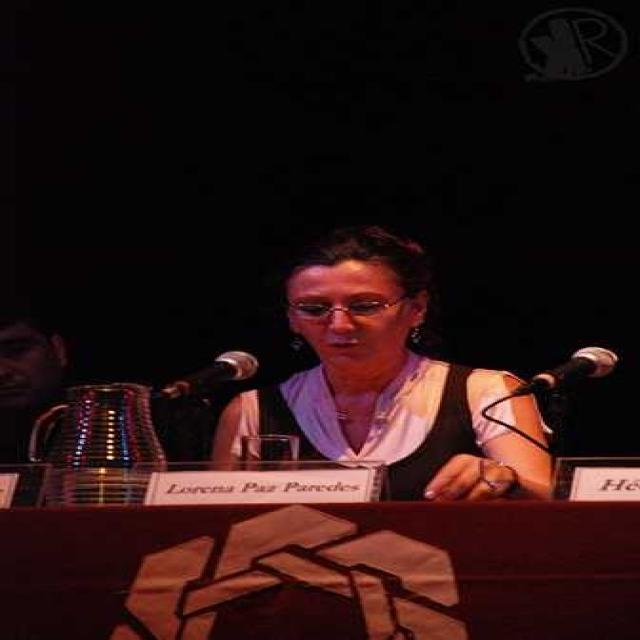microphone: (496, 337, 636, 405), (148, 339, 266, 410)
